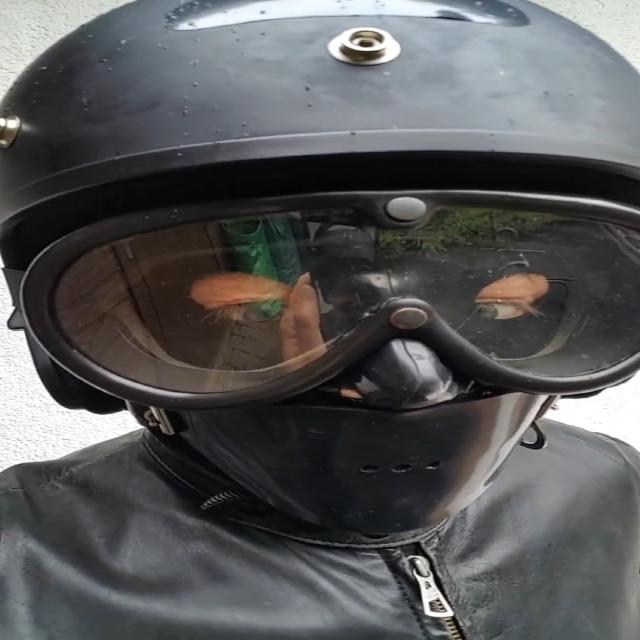Helmet_Wearer: (0, 0, 640, 541)
Jacket_Wearer: (0, 351, 640, 640)
Person: (2, 0, 640, 639)
